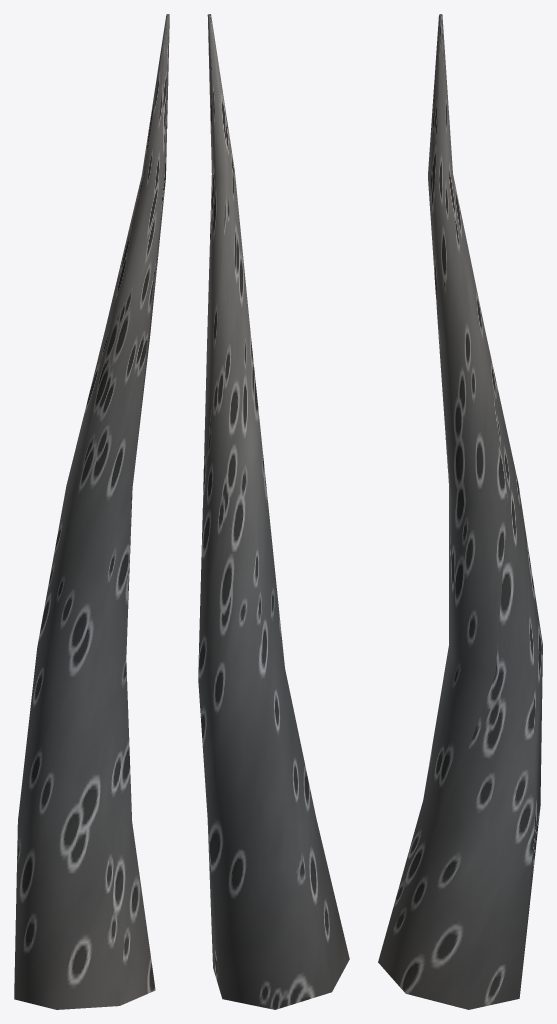
Rendered from spire_l1.gltf.
3 views of the same model, side by side, from view 1: azimuth 30°, elevation 25°; view 2: azimuth 150°, elevation 25°; view 3: azimuth 270°, elevation 25° (orthographic). The views are drawn at different scales.
Parts seen in each view (by area): view 1: spire_l1; view 2: spire_l1; view 3: spire_l1.
Boxes of the visible parts, <box> form: spire_l1: <box>14,14,169,1009</box>; spire_l1: <box>198,14,349,1009</box>; spire_l1: <box>378,14,542,1009</box>.
Size of the model in its own units: 0.9191 by 6.04 by 0.8941.
1 material, 1 textured.
